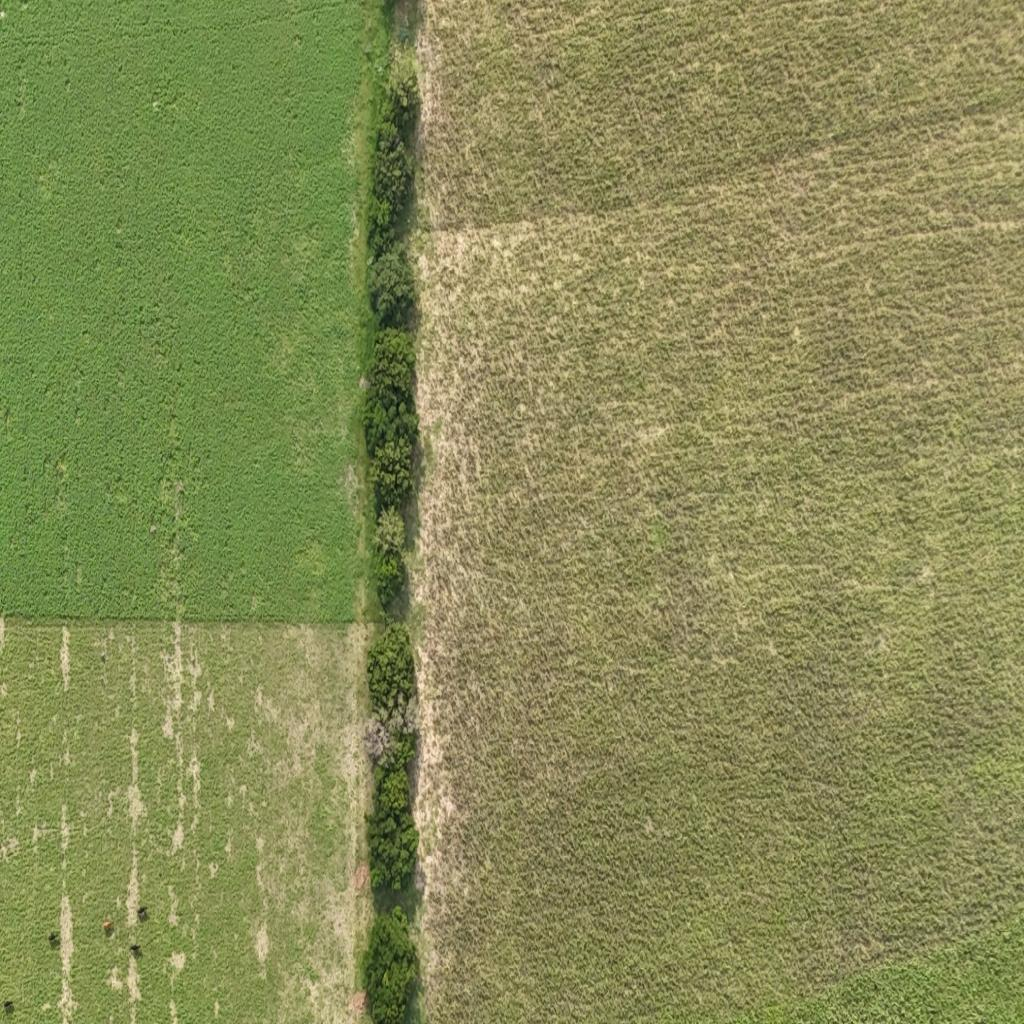cow: (48, 933, 59, 946), (138, 907, 148, 921), (4, 1000, 14, 1014), (130, 943, 141, 954), (103, 920, 112, 931)
